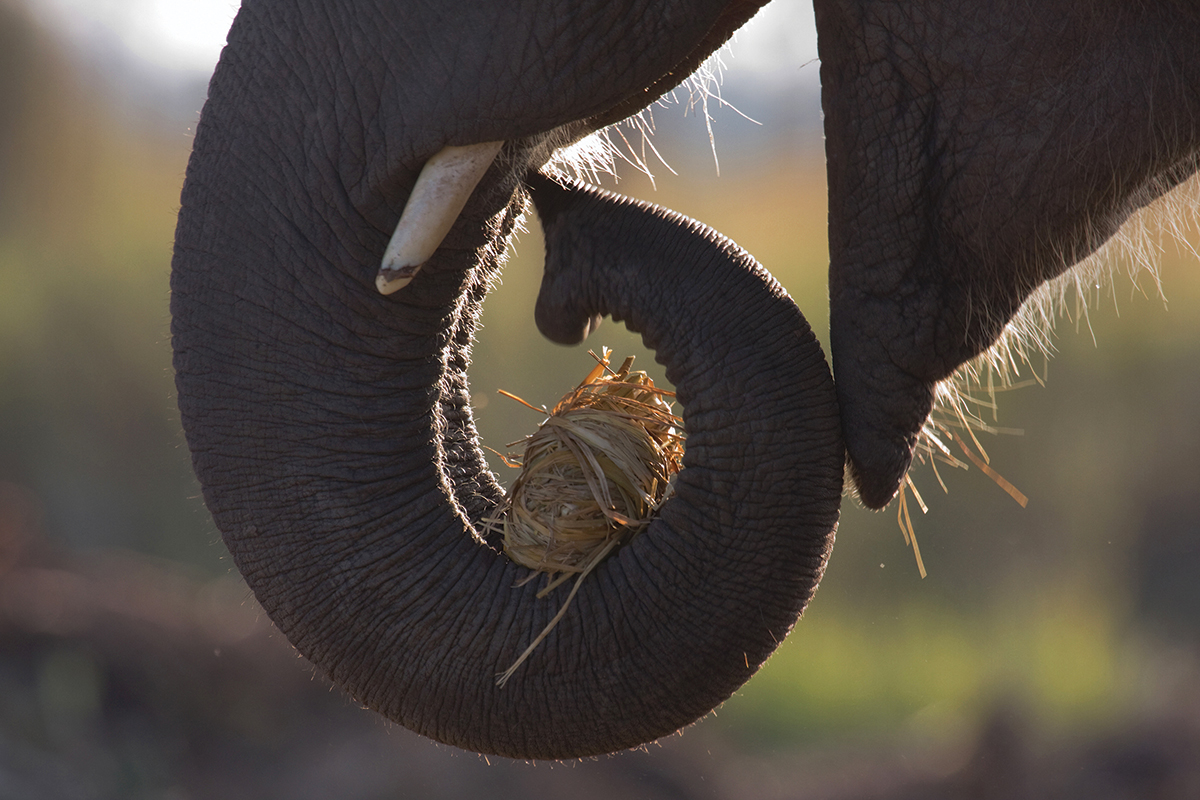elephant: (164, 7, 1200, 760)
